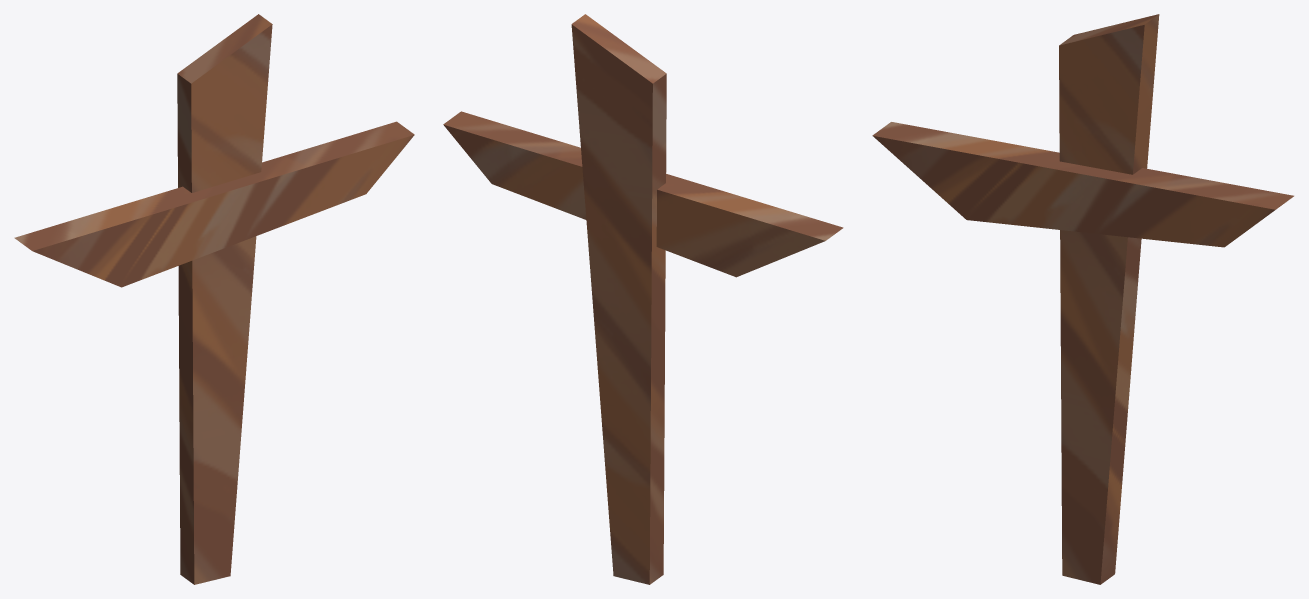
Rendered from croix.FBX.
3 renders of one model, left to right at view 1: azimuth 30°, elevation 25°; view 2: azimuth 150°, elevation 25°; view 3: azimuth 330°, elevation 25°, orthographic. The views are drawn at different scales.
Visible parts, largest first — view 1: Box013; view 2: Box013; view 3: Box013.
Boxes of the visible parts, x1,y1,x2,y2 form: Box013: (14,14,414,584); Box013: (443,14,843,584); Box013: (872,14,1293,584).
Size of the model in its own units: 106 by 144 by 11.01.
1 material, 1 textured.
